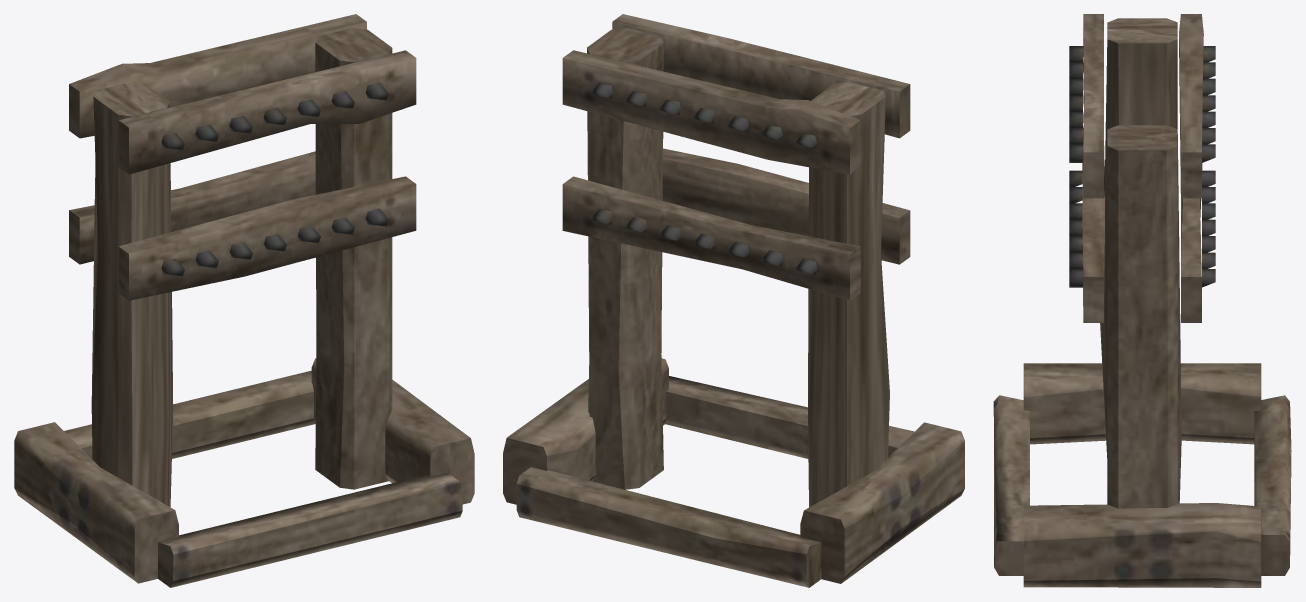
Rendered from weapon-rack-b.lod0.glb.
3 renders of one model, left to right at view 1: azimuth 30°, elevation 25°; view 2: azimuth 150°, elevation 25°; view 3: azimuth 270°, elevation 25°, orthographic.
Parts seen in each view (by area): view 1: defaultMaterial; view 2: defaultMaterial; view 3: defaultMaterial.
Boxes of the visible parts, x1=… form: defaultMaterial: x1=14, y1=14, x2=474, y2=587; defaultMaterial: x1=503, y1=14, x2=964, y2=587; defaultMaterial: x1=993, y1=14, x2=1291, y2=587.
Size of the model in its own units: 1.65 by 2 by 1.26.
Materials: 1 (1 with a texture image).
